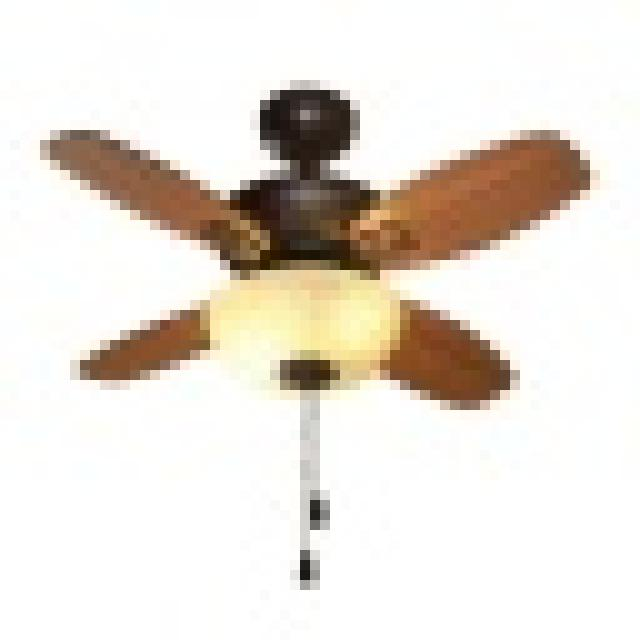Bulb: (58, 106, 610, 454)
